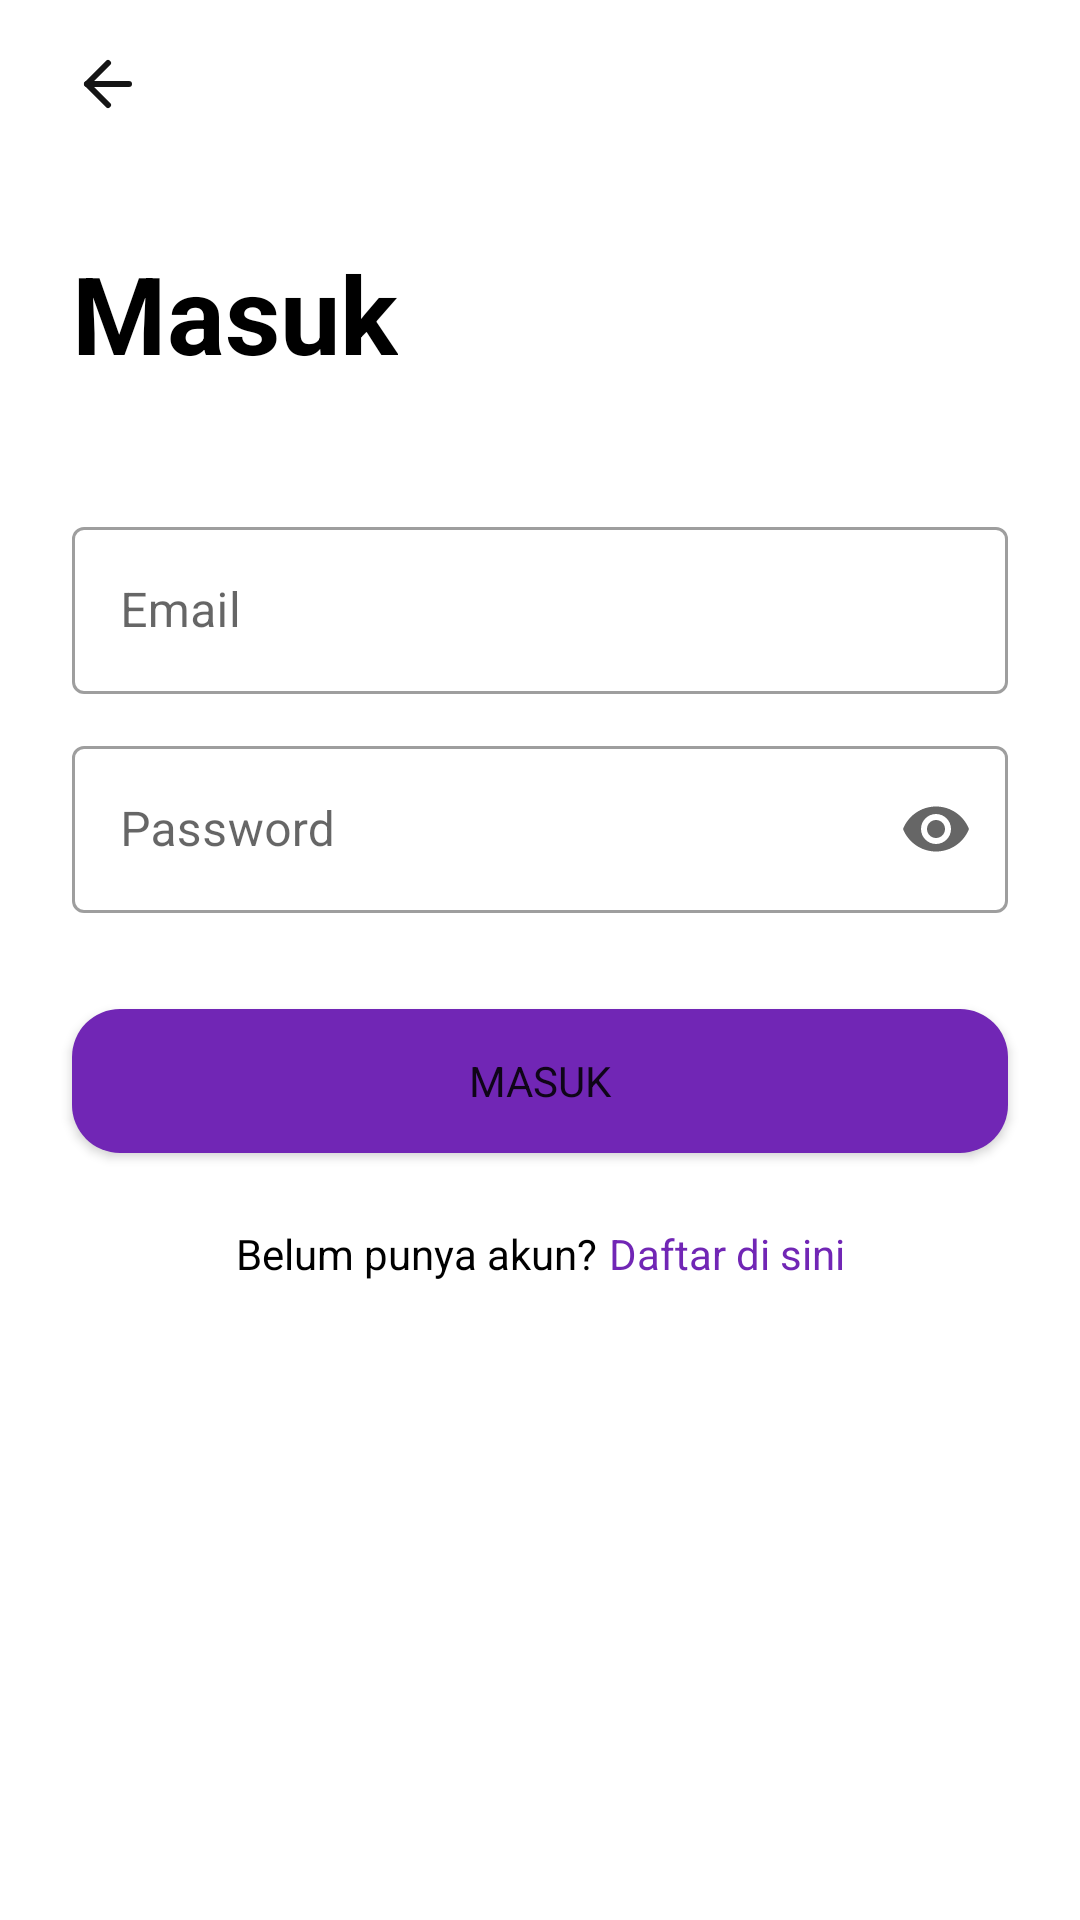

Screen size 1080px x 1920px. Icon name, then its box in pixels as (x1, y1, x2, y2):
back button: (84, 60, 132, 108)
